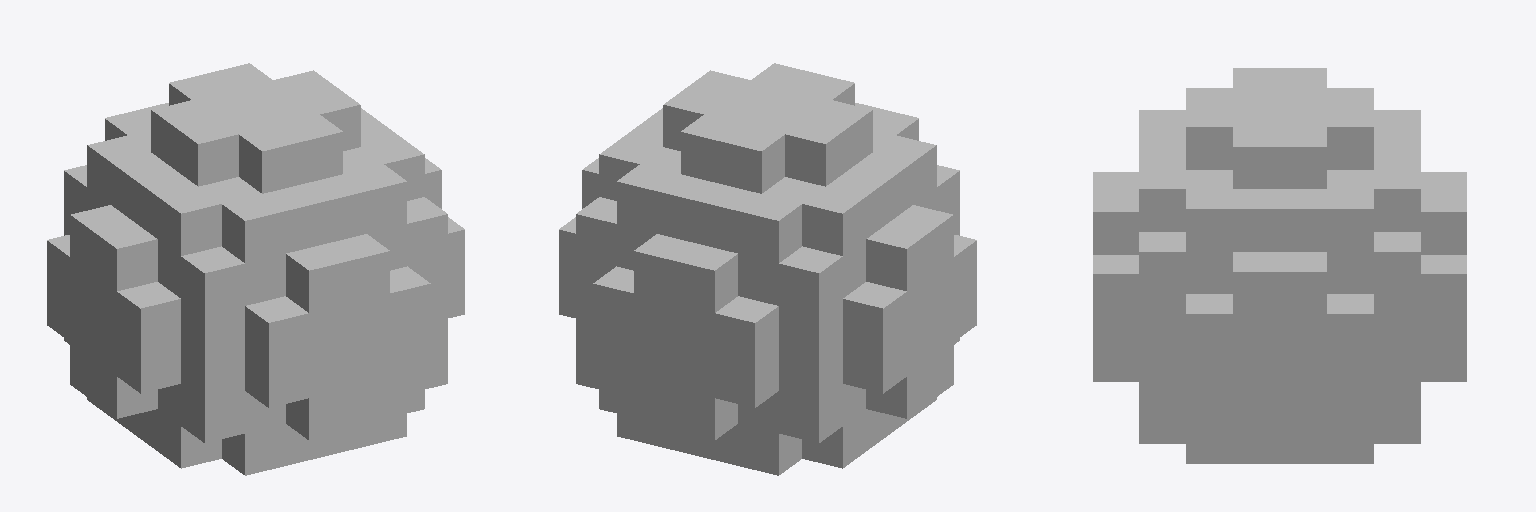
File: Snowman_Head_4.obj
3 renders of one model, left to right at view 1: azimuth 30°, elevation 25°; view 2: azimuth 150°, elevation 25°; view 3: azimuth 270°, elevation 25°, orthographic.
Visible parts, largest first — view 1: object 1; view 2: object 1; view 3: object 1.
Boxes of the visible parts, <box> form: object 1: <box>47,63,464,475</box>; object 1: <box>559,63,976,475</box>; object 1: <box>1093,68,1466,463</box>.
Bounding box in the file's own units: 0.8 × 0.7 × 0.8.